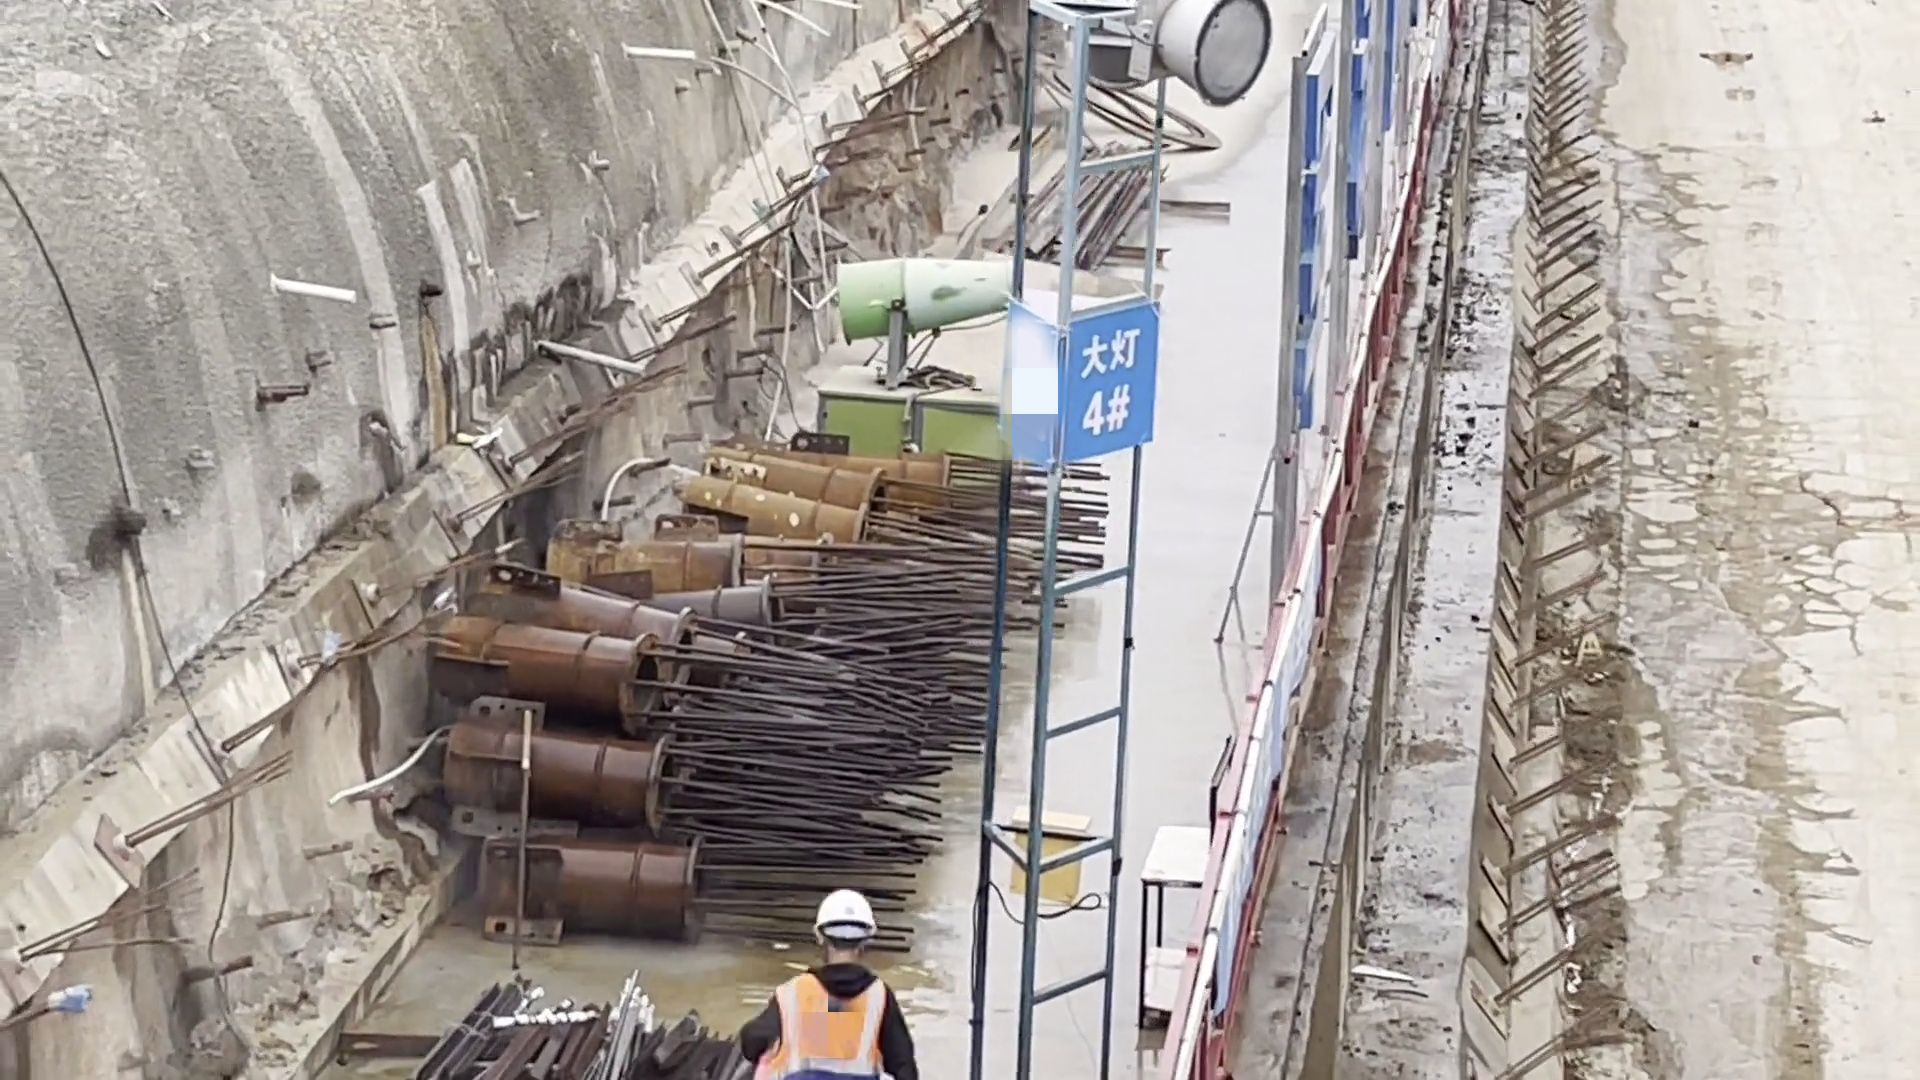ebox: (1008, 800, 1091, 912)
fence: (1146, 815, 1287, 1080), (1227, 603, 1335, 903), (1288, 373, 1363, 665), (1367, 172, 1413, 424)
helmet: (809, 885, 890, 953)
person: (721, 877, 960, 1080)
slogan: (1211, 532, 1349, 996), (977, 272, 1190, 514)
vest: (745, 966, 918, 1080)
